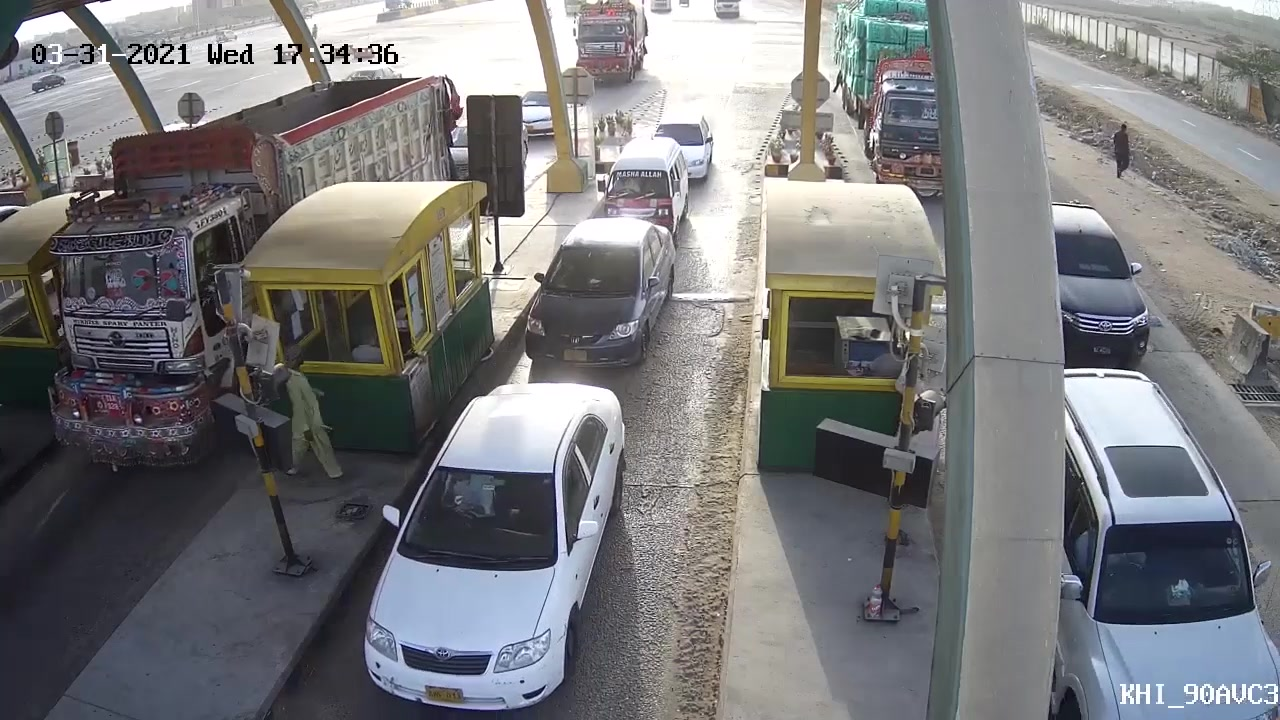F1: (346, 379, 637, 711), (504, 217, 688, 379)
